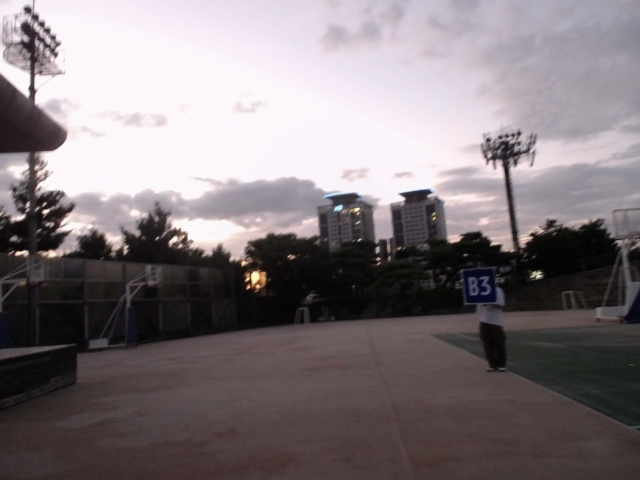delivery_b3: (460, 268, 499, 305)
